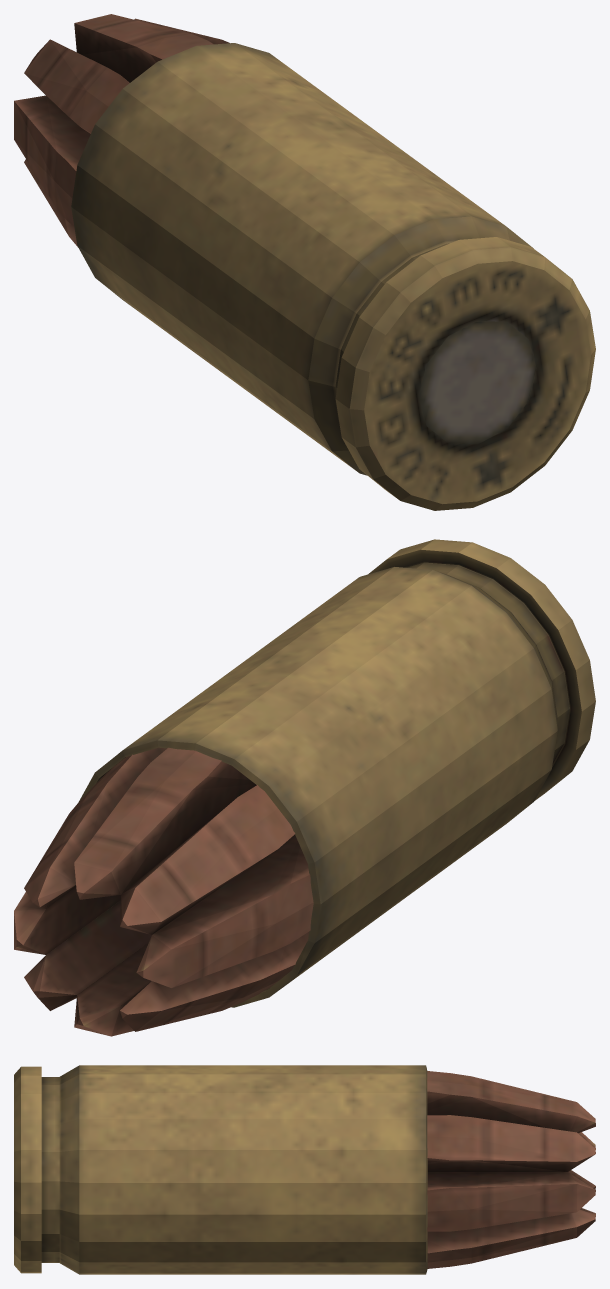
The picture shows the model from 3 angles, top to bottom: view 1: azimuth 30°, elevation 25°; view 2: azimuth 150°, elevation 25°; view 3: azimuth 270°, elevation 25°; orthographic projection. The views are drawn at different scales.
Visible parts, largest first — view 1: TW_5c0d56a986f774449d5de529_PZ_Import; view 2: TW_5c0d56a986f774449d5de529_PZ_Import; view 3: TW_5c0d56a986f774449d5de529_PZ_Import.
Boxes of the visible parts, x1,y1,x2,y2 form: TW_5c0d56a986f774449d5de529_PZ_Import: (14, 14, 595, 510); TW_5c0d56a986f774449d5de529_PZ_Import: (14, 539, 595, 1036); TW_5c0d56a986f774449d5de529_PZ_Import: (14, 1065, 595, 1274).
Bounding box in the file's own units: 0.00563 × 0.0155 × 0.00563.
Materials: 1 (1 with a texture image).
